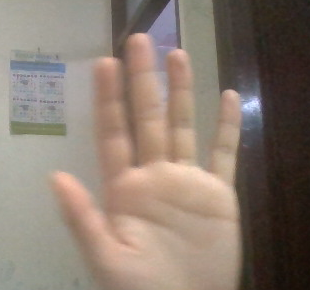move: (59, 51, 302, 290)
